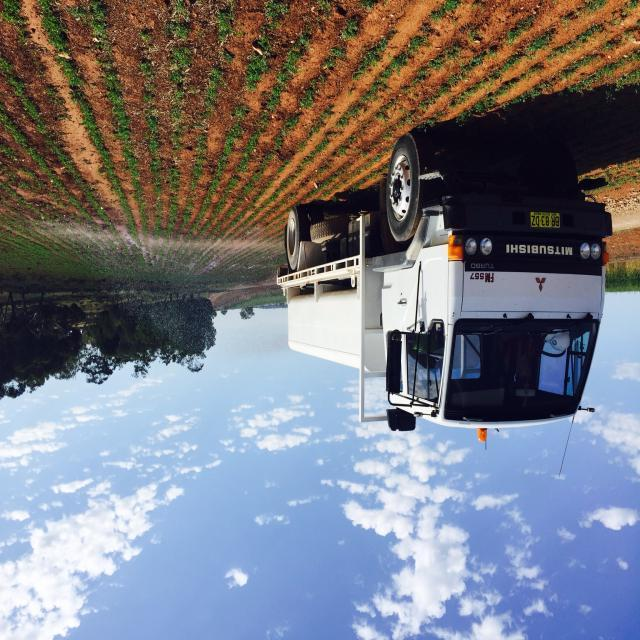truck: (274, 135, 614, 433)
